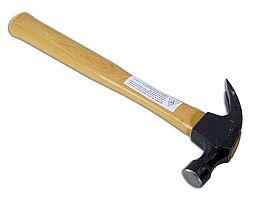hammer: (6, 10, 243, 188)
